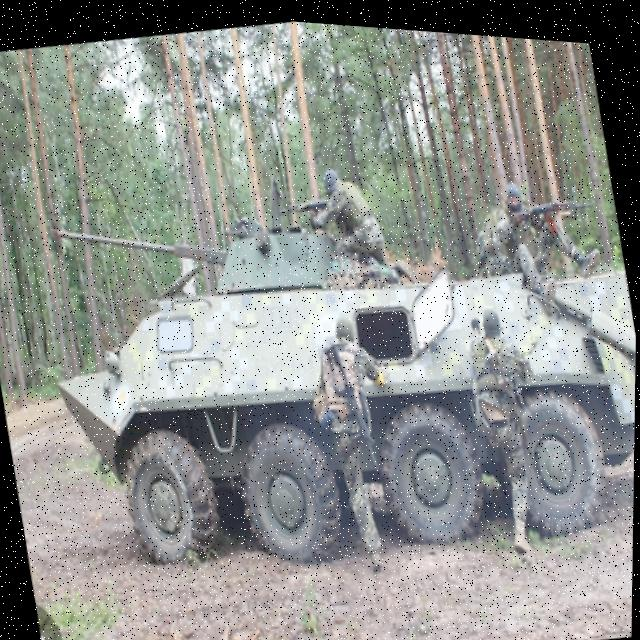MIL_APC: (0, 85, 639, 626)
